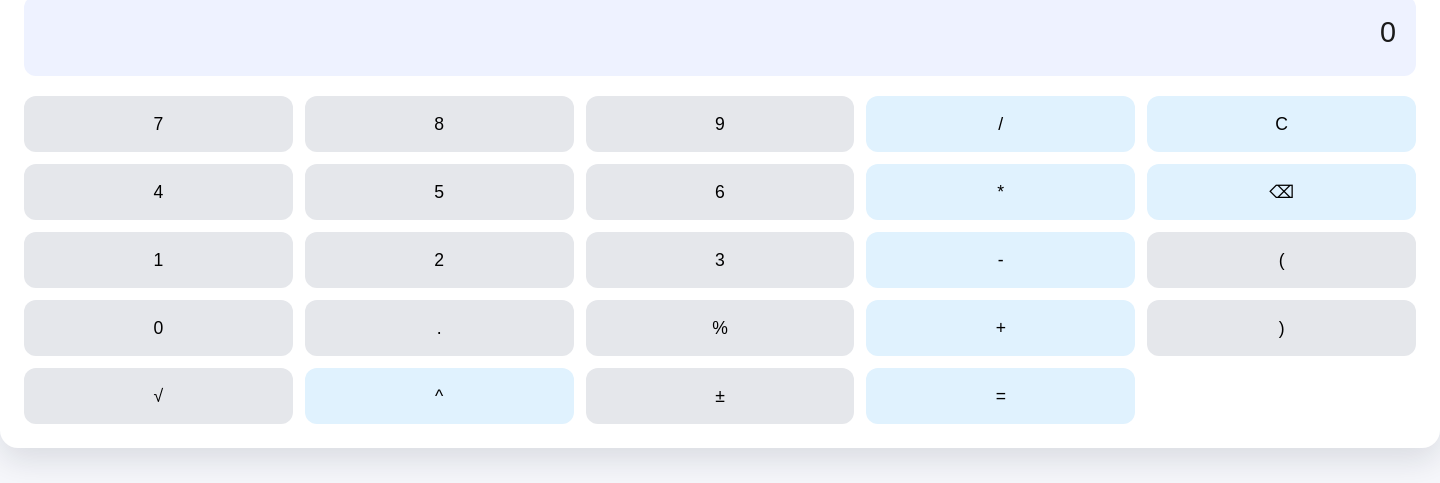
it: Calculator › updates display when user clicks digits
The image size is (1440, 483).
Step 1. Click the button "1" → (158, 260), box [24,232,293,288]
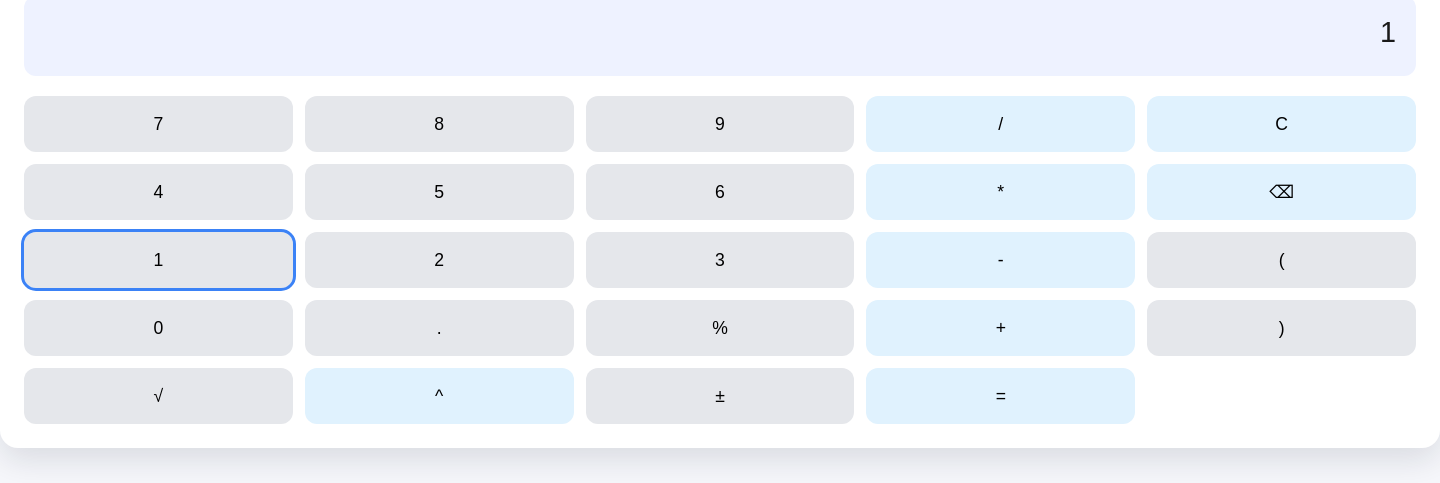
Step 2. Click the button "+" → (1001, 328), box [866,300,1135,356]
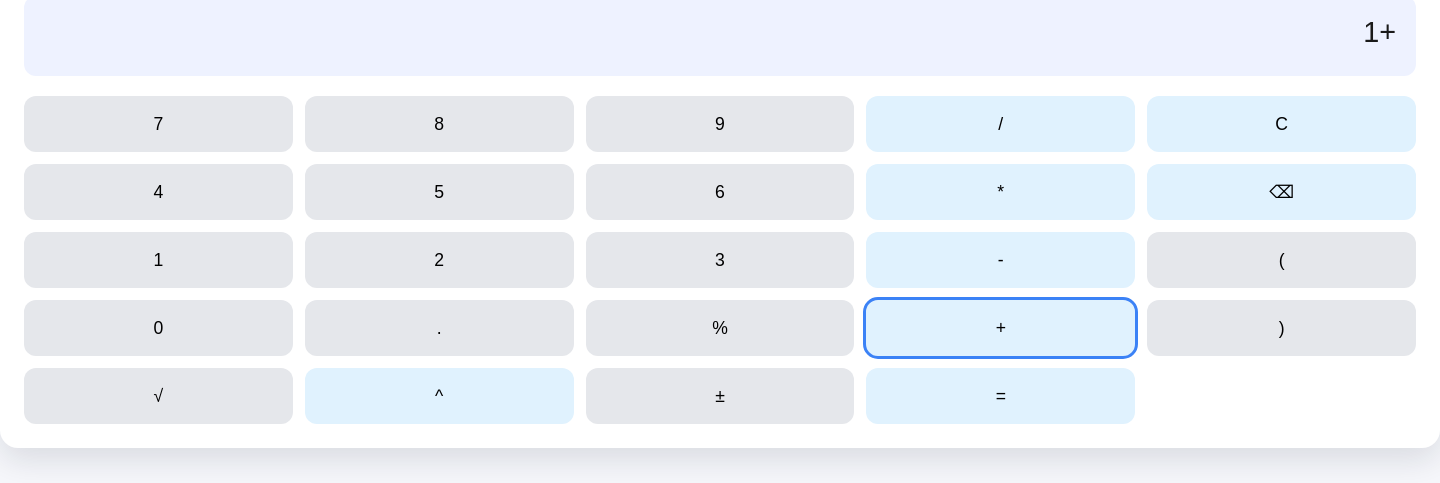
Step 3. Click the button "2" → (439, 260), box [305,232,574,288]
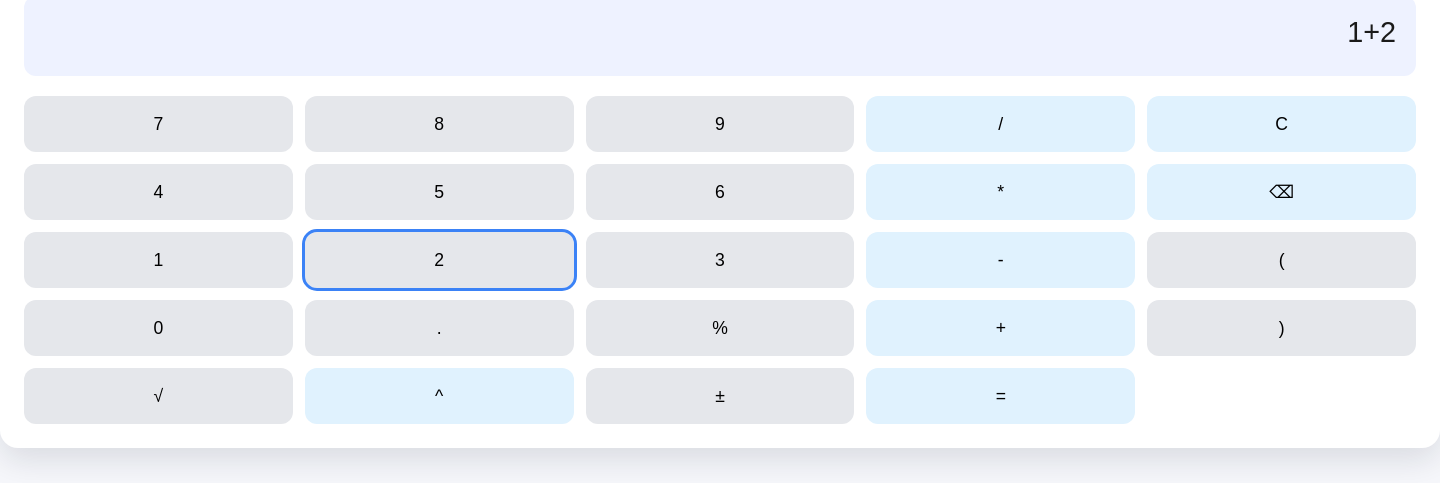
Check: the text named "calculator display" reads "1+2", box [1347,16,1396,48]
